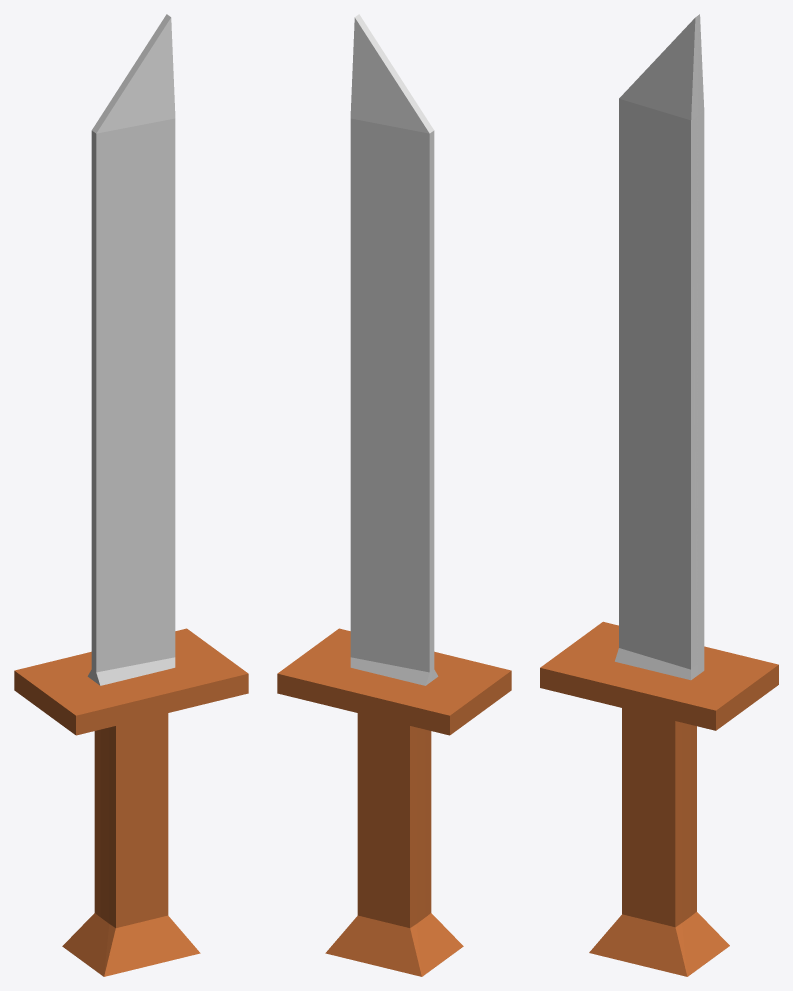
The model's file is dagger_001.fbx.
3 renders of one model, left to right at view 1: azimuth 30°, elevation 25°; view 2: azimuth 150°, elevation 25°; view 3: azimuth 330°, elevation 25°, orthographic.
Parts seen in each view (by area): view 1: Cube; view 2: Cube; view 3: Cube.
Part boxes in pixels (box(x1,y1,x2,y2)): Cube: box(14, 14, 248, 976); Cube: box(277, 14, 511, 976); Cube: box(540, 14, 778, 976).
Bounding box in the file's own units: 19.52 × 100 × 12.09.
